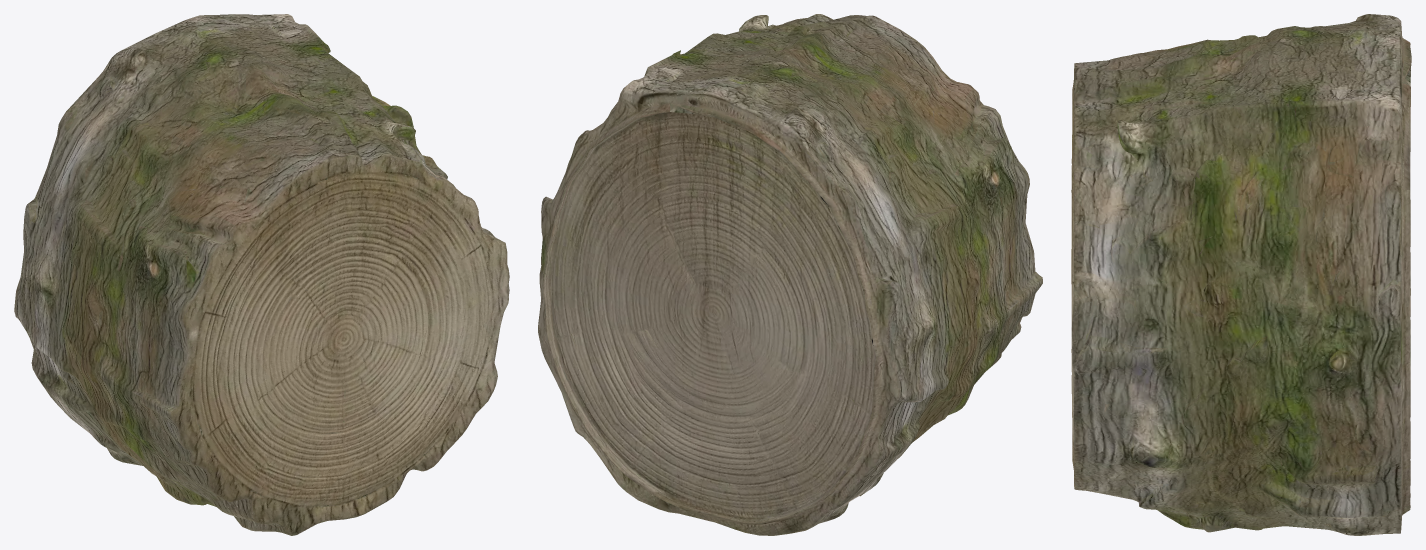
Rendered from log.glb.
3 views of the same model, side by side, from view 1: azimuth 30°, elevation 25°; view 2: azimuth 150°, elevation 25°; view 3: azimuth 270°, elevation 25° (orthographic). The views are drawn at different scales.
Parts seen in each view (by area): view 1: Mesh1.0; view 2: Mesh1.0; view 3: Mesh1.0.
Part boxes in pixels (x1,y1,x2,y2): Mesh1.0: [14, 14, 509, 535]; Mesh1.0: [538, 14, 1042, 535]; Mesh1.0: [1071, 14, 1411, 535].
Size of the model in its own units: 1.7 by 1.91 by 1.25.
1 material, 1 textured.
